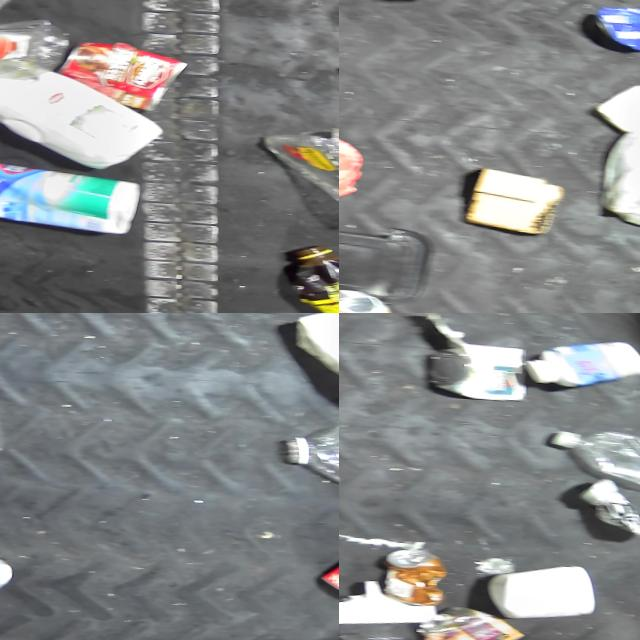can: (407, 313, 530, 392), (71, 32, 193, 106), (370, 537, 463, 609), (468, 158, 566, 225), (407, 596, 519, 640), (339, 282, 396, 313)
milk_jug: (0, 52, 161, 170), (594, 78, 640, 224)
plastic_bottle: (542, 419, 640, 482), (278, 119, 339, 216), (0, 13, 79, 80), (286, 403, 339, 495)
